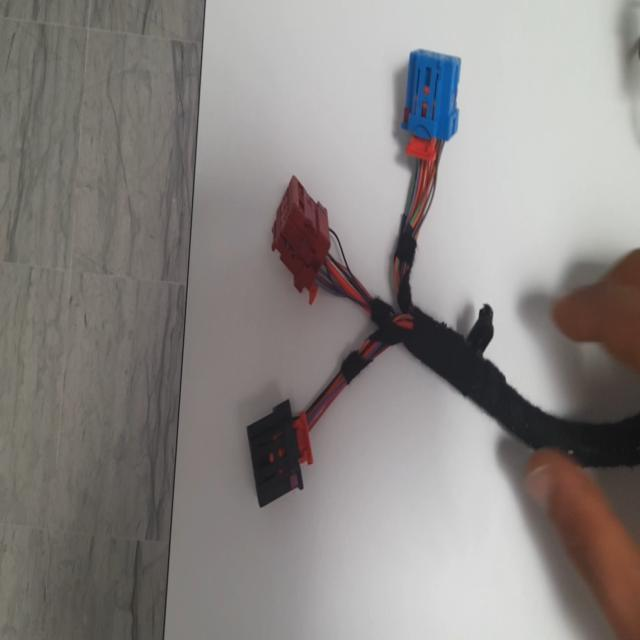cable: (294, 210, 639, 466)
connector: (253, 174, 347, 304), (399, 48, 466, 145), (245, 399, 304, 507)
